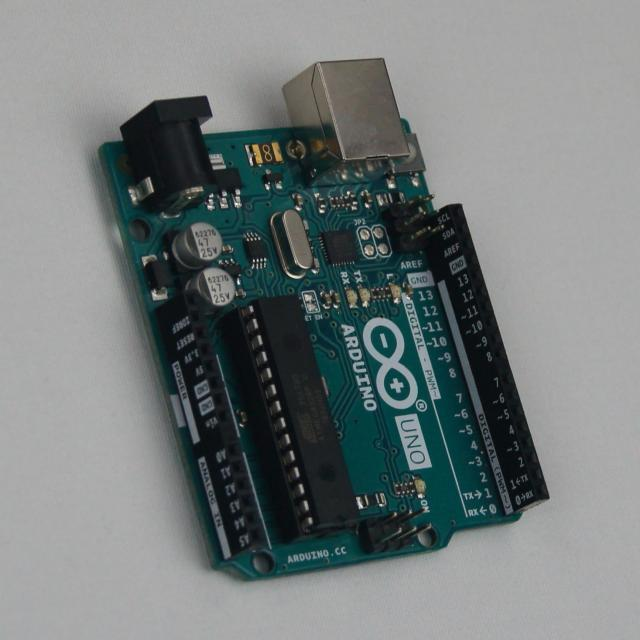Arduino Uno -Green-: (102, 59, 549, 577)
